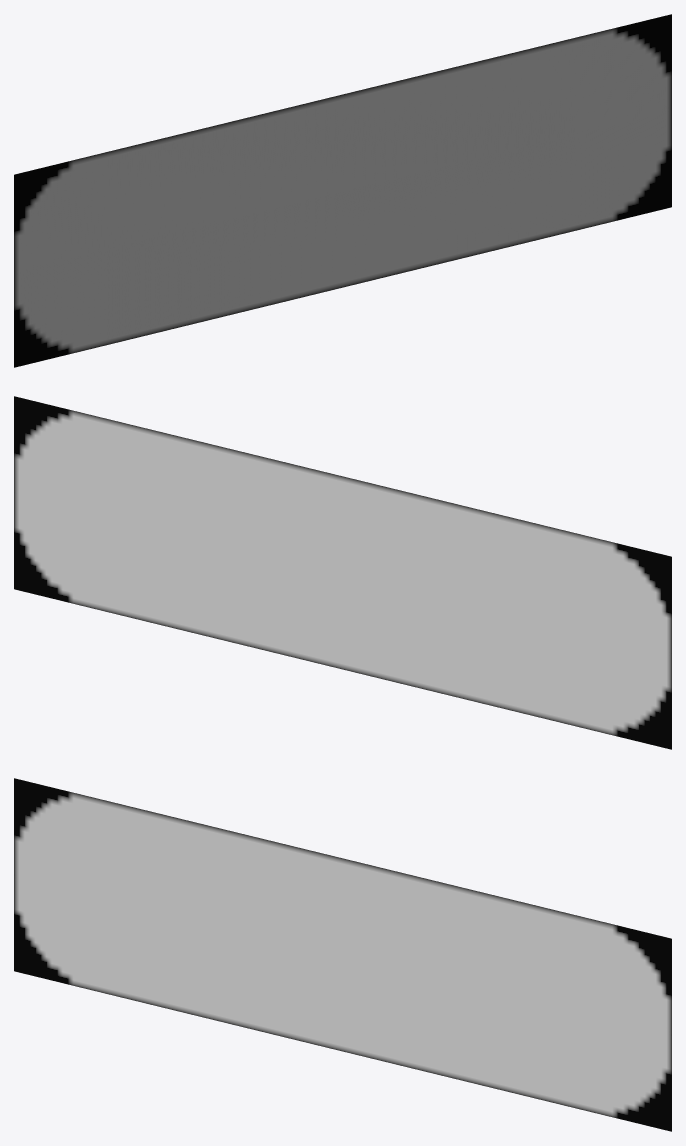
3 renders of one model, top to bottom at view 1: azimuth 30°, elevation 25°; view 2: azimuth 150°, elevation 25°; view 3: azimuth 330°, elevation 25°, orthographic.
Parts seen in each view (by area): view 1: Joint_0_Object_0; view 2: Joint_0_Object_0; view 3: Joint_0_Object_0.
Part boxes in pixels (<box>): Joint_0_Object_0: <box>14,14,671,367</box>; Joint_0_Object_0: <box>14,396,671,749</box>; Joint_0_Object_0: <box>14,778,671,1131</box>.
Bounding box in the file's own units: 45.1 × 12.65 × 0.
Materials: 1 (1 with a texture image).
